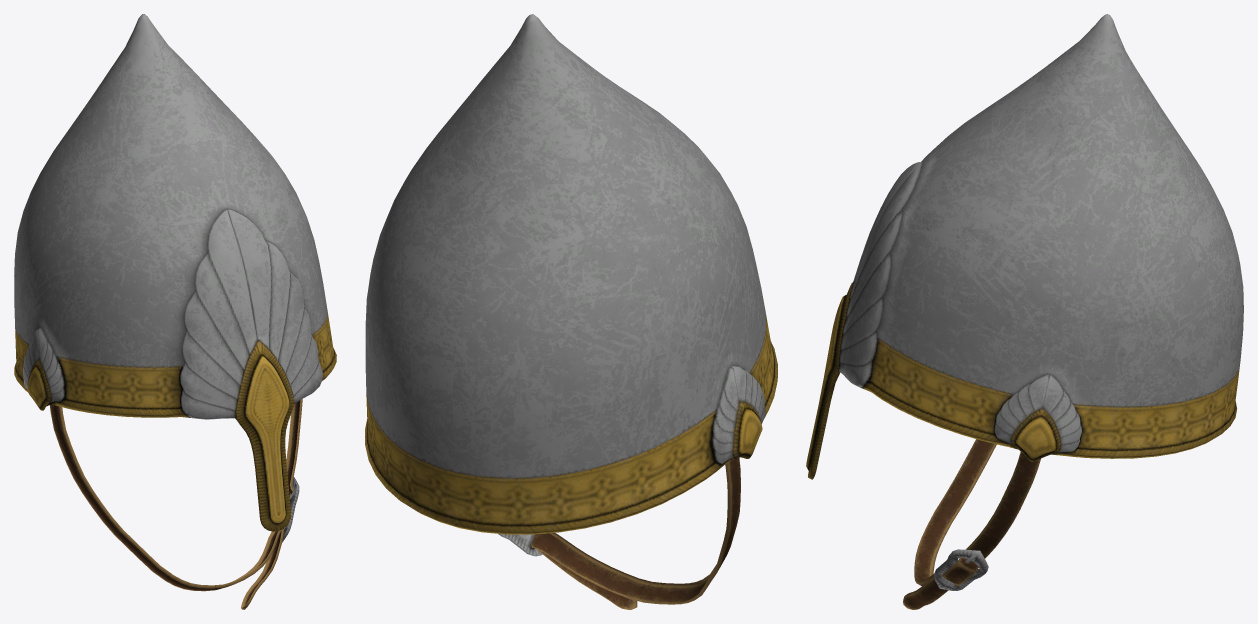
File: pelargirmarine_helmet_1_b.fbx
3 views of the same model, side by side, from view 1: azimuth 30°, elevation 25°; view 2: azimuth 150°, elevation 25°; view 3: azimuth 270°, elevation 25° (orthographic). The views are drawn at different scales.
Visible parts, largest first — view 1: pelargirmarine_helmet_1_b; view 2: pelargirmarine_helmet_1_b; view 3: pelargirmarine_helmet_1_b.
Boxes of the visible parts, x1=… form: pelargirmarine_helmet_1_b: x1=14, y1=14, x2=336, y2=609; pelargirmarine_helmet_1_b: x1=365, y1=14, x2=777, y2=609; pelargirmarine_helmet_1_b: x1=806, y1=14, x2=1243, y2=609.
Size of the model in its own units: 0.2237 by 0.2744 by 0.4072.
Materials: 1 (1 with a texture image).
